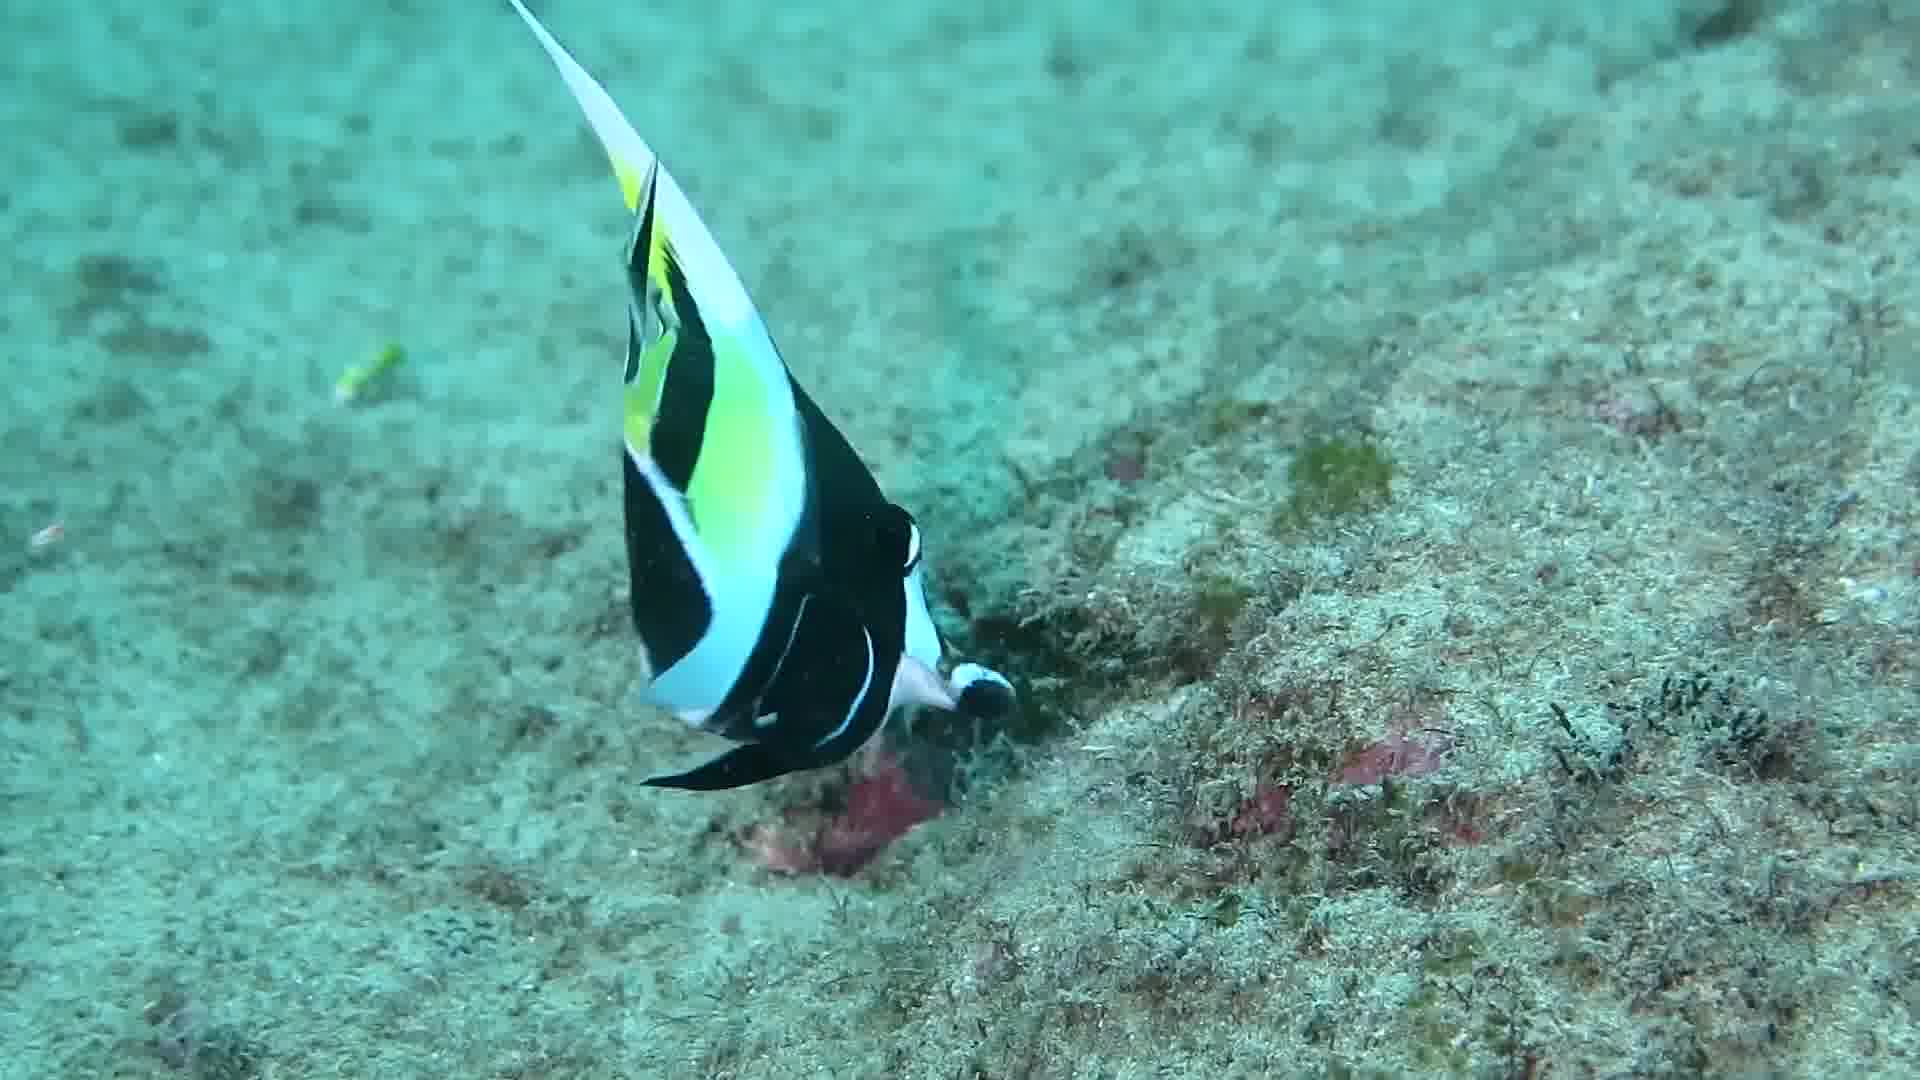Zanclus cornutus: (469, 135, 1131, 839)
